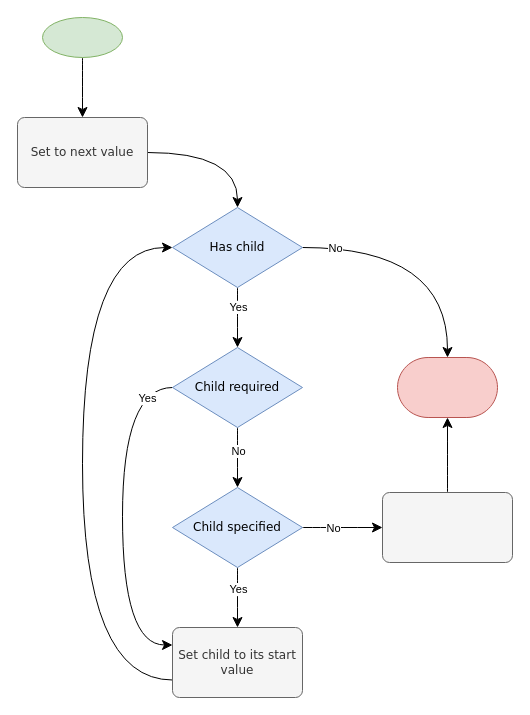
This 530x715 diagram has some shape labels left out. The centre of each missing label's shape, as x and y in pixels:
Bump: the point at 82,37
Bumped: the point at 447,387
Set child to `None`: the point at 447,527
